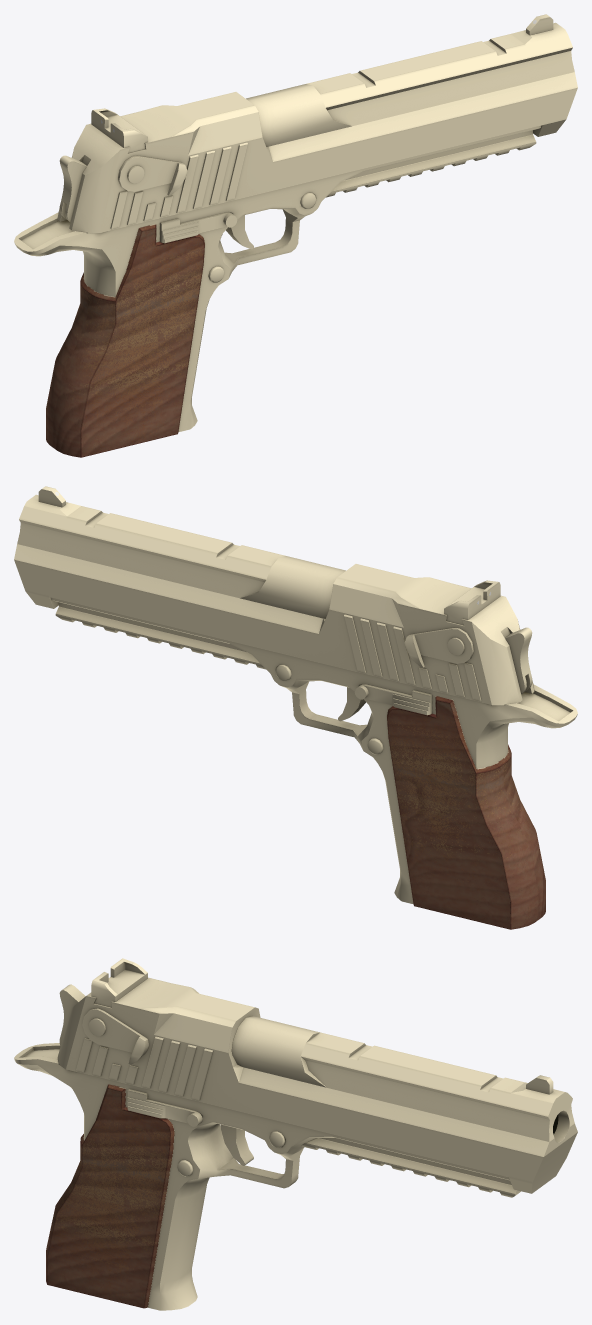
Rendered from weapon_11_5.gltf.
The picture shows the model from 3 angles, top to bottom: view 1: azimuth 30°, elevation 25°; view 2: azimuth 150°, elevation 25°; view 3: azimuth 330°, elevation 25°; orthographic projection.
Parts seen in each view (by area): view 1: Cylinder_Cylinder.001; view 2: Cylinder_Cylinder.001; view 3: Cylinder_Cylinder.001.
Part boxes in pixels (x1,y1,x2,y2): Cylinder_Cylinder.001: [14, 14, 577, 457]; Cylinder_Cylinder.001: [14, 486, 577, 929]; Cylinder_Cylinder.001: [14, 958, 577, 1310].
Size of the model in its own units: 3.58 by 1.98 by 0.4841.
1 material, 1 textured.
